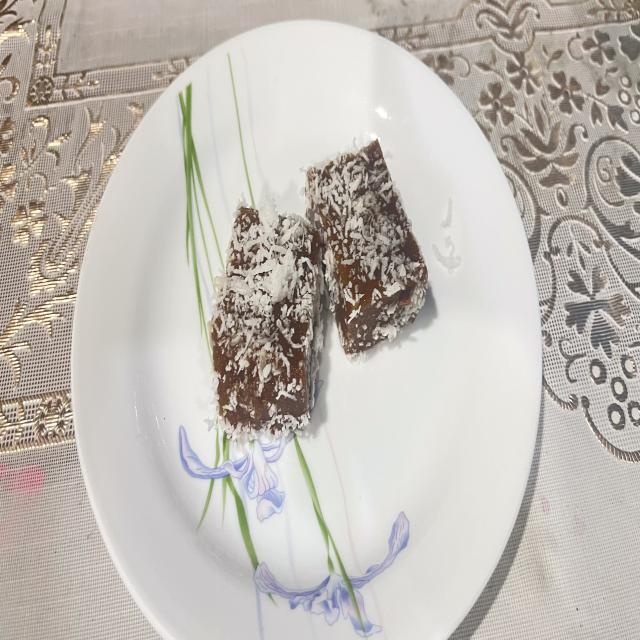kaswi: (209, 200, 324, 440), (306, 140, 428, 356)
